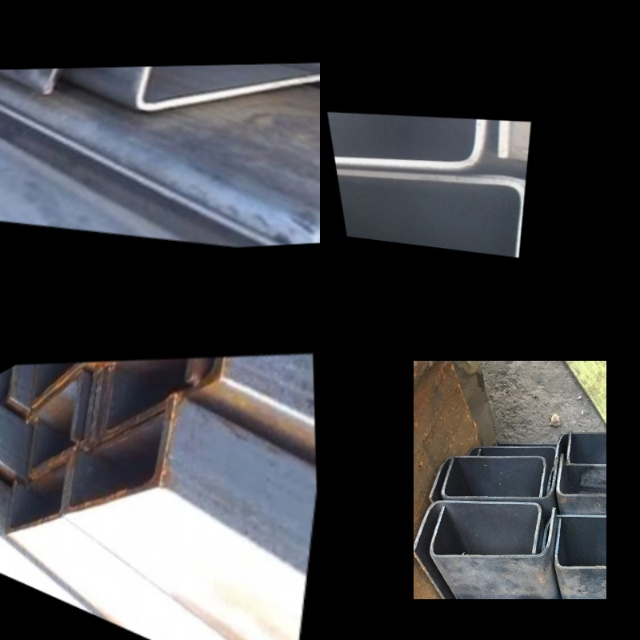Shveller: (57, 347, 181, 551), (99, 320, 236, 477), (83, 320, 206, 472), (337, 170, 525, 258), (43, 64, 300, 124), (139, 62, 320, 138), (24, 341, 106, 500), (328, 112, 486, 173), (328, 112, 505, 164), (32, 327, 108, 434), (257, 132, 320, 245), (414, 503, 540, 552), (433, 507, 554, 554), (444, 457, 557, 496), (430, 460, 545, 498), (542, 519, 606, 564), (558, 520, 606, 565), (560, 454, 606, 492), (549, 467, 606, 494), (558, 435, 606, 461), (568, 430, 606, 462)
